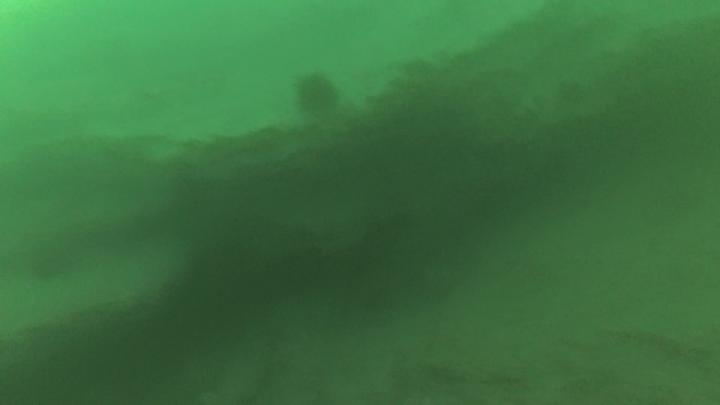echinus: (292, 69, 341, 117)
